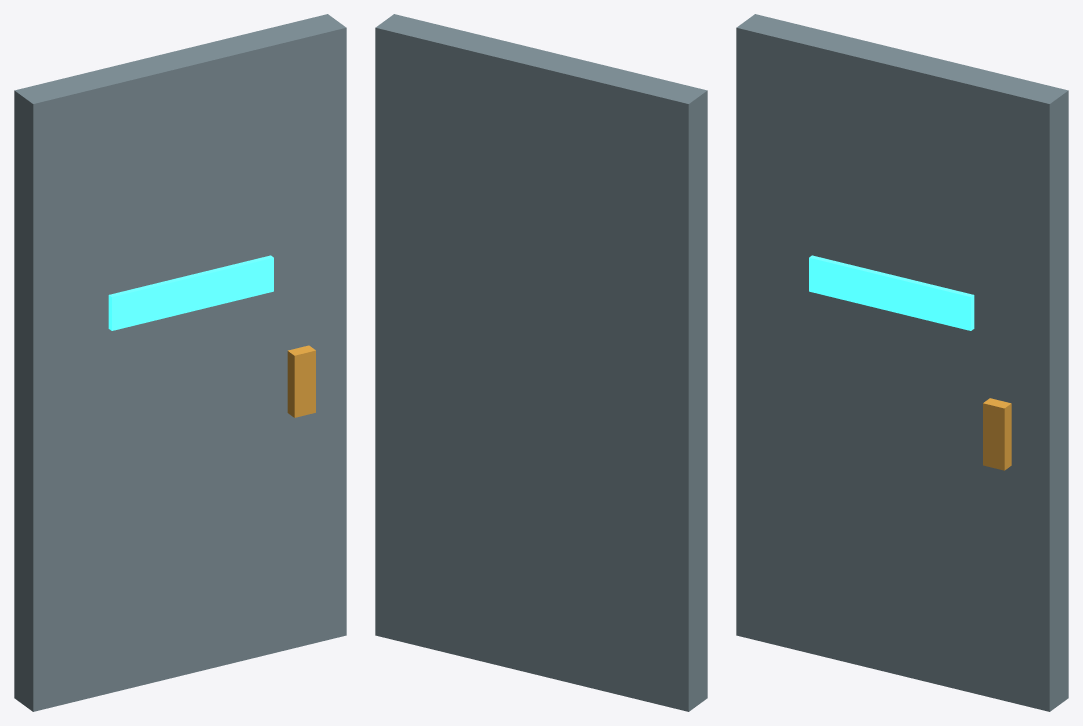
File: Hab_Pressure_Door.glb
The picture shows the model from 3 angles, left to right: view 1: azimuth 30°, elevation 25°; view 2: azimuth 150°, elevation 25°; view 3: azimuth 330°, elevation 25°; orthographic projection.
Visible parts, largest first — view 1: Hab_Pressure_Door; view 2: Hab_Pressure_Door; view 3: Hab_Pressure_Door.
Part boxes in pixels (<box>): Hab_Pressure_Door: <box>14,14,346,711</box>; Hab_Pressure_Door: <box>375,14,707,711</box>; Hab_Pressure_Door: <box>736,14,1068,711</box>.
Size of the model in its own units: 1.16 by 2.15 by 0.1675.
